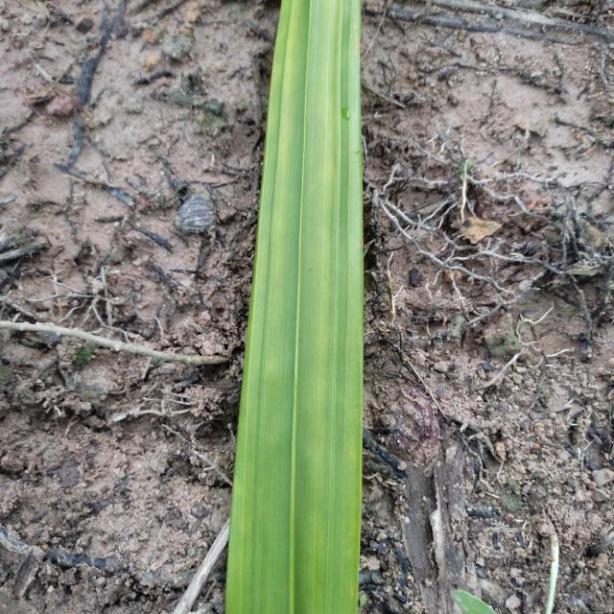nitrogen: (221, 0, 361, 614)
